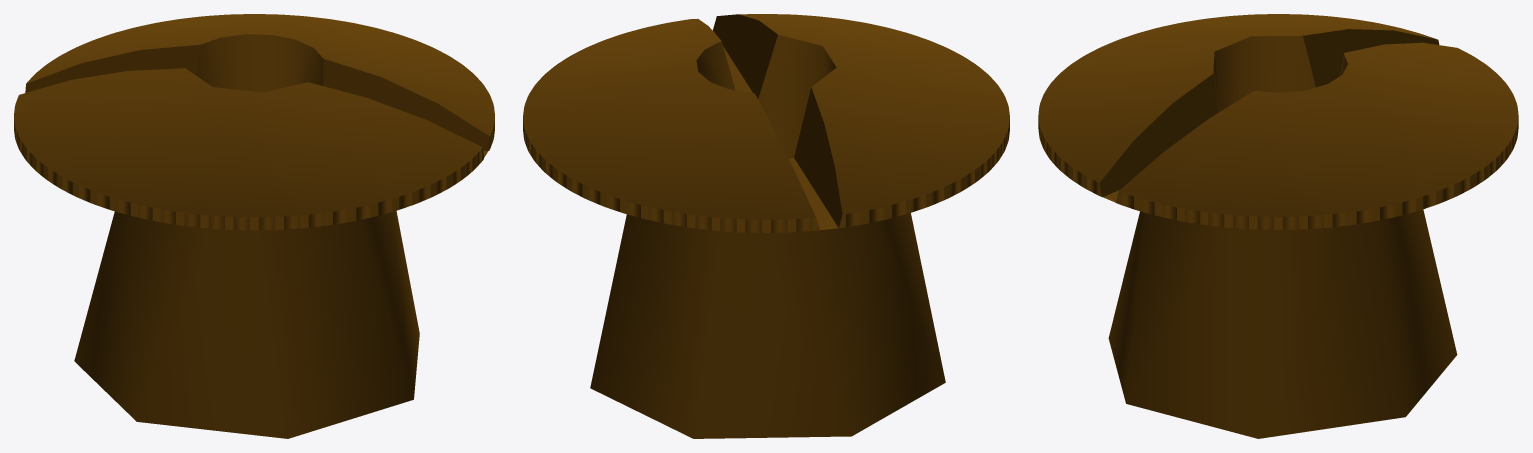
File: Vis Champignon_Marteaux.obj
3 renders of one model, left to right at view 1: azimuth 30°, elevation 25°; view 2: azimuth 150°, elevation 25°; view 3: azimuth 270°, elevation 25°, orthographic.
Visible parts, largest first — view 1: Face_62, Face_65, Face_1, Face_66, Face_130, Face_129; view 2: Face_62, Face_1, Face_65, Face_66, Face_128, Face_131, Face_127; view 3: Face_62, Face_1, Face_65, Face_66, Face_131, Face_128.
Boxes of the visible parts, x1,y1,x2,y2 form: Face_62: (74, 211, 419, 438); Face_65: (14, 68, 482, 217); Face_1: (26, 14, 494, 135); Face_66: (196, 34, 323, 92); Face_130: (323, 58, 489, 150); Face_129: (25, 44, 200, 92); Face_62: (590, 213, 945, 438); Face_1: (523, 19, 815, 219); Face_65: (739, 14, 1009, 214); Face_66: (696, 34, 836, 158); Face_128: (794, 87, 842, 227); Face_131: (713, 14, 777, 98); Face_127: (788, 157, 838, 230); Face_62: (1108, 209, 1457, 438); Face_1: (1119, 42, 1518, 216); Face_65: (1038, 14, 1437, 182); Face_66: (1213, 35, 1347, 112); Face_131: (1099, 74, 1218, 197); Face_128: (1303, 29, 1439, 87).
Size of the model in its own units: 0.01 by 0.0069 by 0.01.
